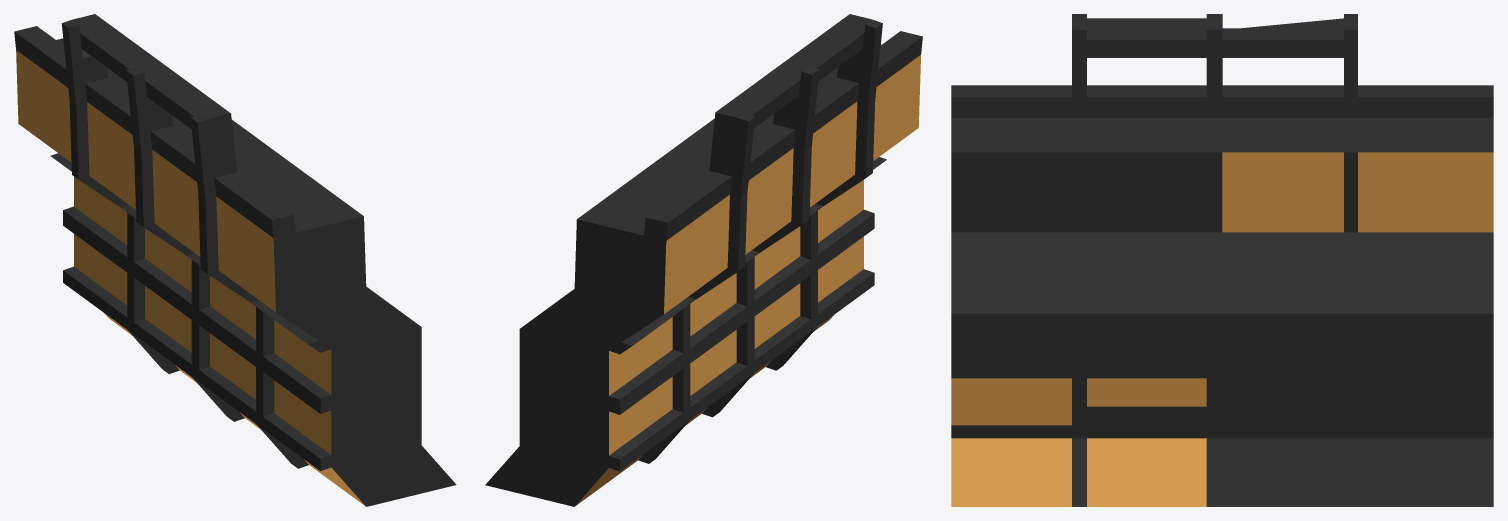
Rendered from Ship.fbx.
3 renders of one model, left to right at view 1: azimuth 30°, elevation 25°; view 2: azimuth 150°, elevation 25°; view 3: azimuth 270°, elevation 25°, orthographic. The views are drawn at different scales.
Parts seen in each view (by area): view 1: Cube; view 2: Cube; view 3: Cube.
Part boxes in pixels (<box>): Cube: <box>14,14,456,506</box>; Cube: <box>485,14,922,506</box>; Cube: <box>951,14,1493,506</box>.
Size of the model in its own units: 1680 by 2956 by 3712.
